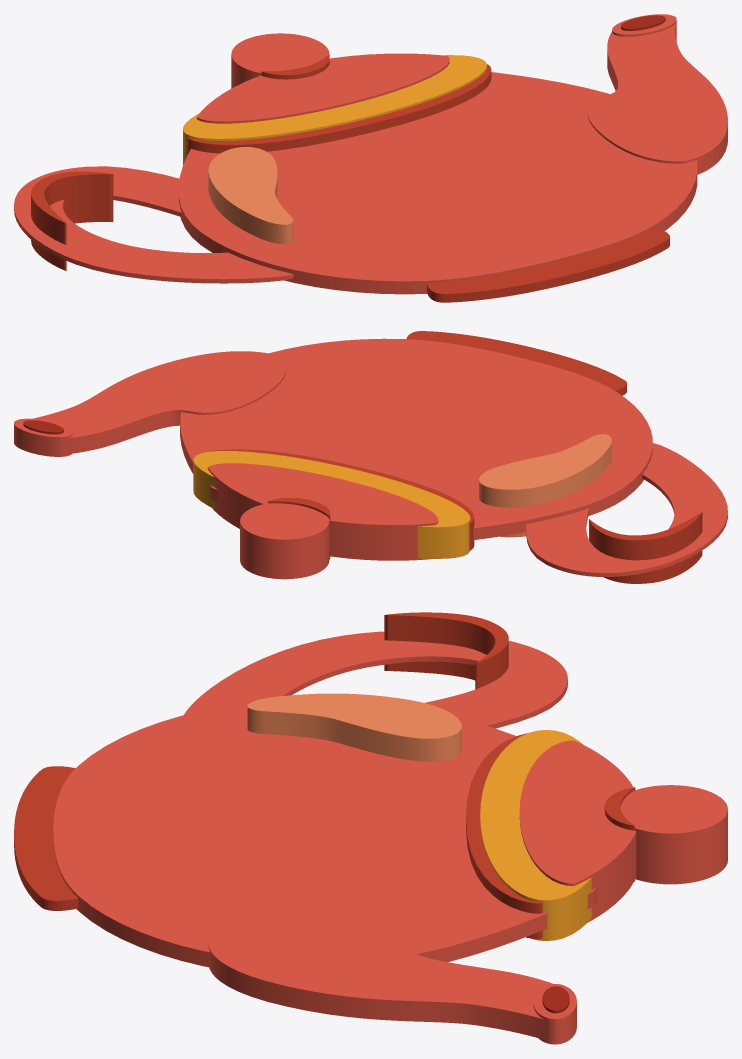
The model's file is emoji_u1fad6.glb.
The picture shows the model from 3 angles, top to bottom: view 1: azimuth 30°, elevation 25°; view 2: azimuth 150°, elevation 25°; view 3: azimuth 270°, elevation 25°; orthographic projection. The views are drawn at different scales.
Visible parts, largest first — view 1: emoji_u1fad6; view 2: emoji_u1fad6; view 3: emoji_u1fad6.
Boxes of the visible parts, left/top/right/bottom form: emoji_u1fad6: left=14, top=14, right=727, bottom=302; emoji_u1fad6: left=14, top=331, right=727, bottom=583; emoji_u1fad6: left=14, top=612, right=727, bottom=1044.
Bounding box in the file's own units: 0.0336 × 0.0024 × 0.0255.
